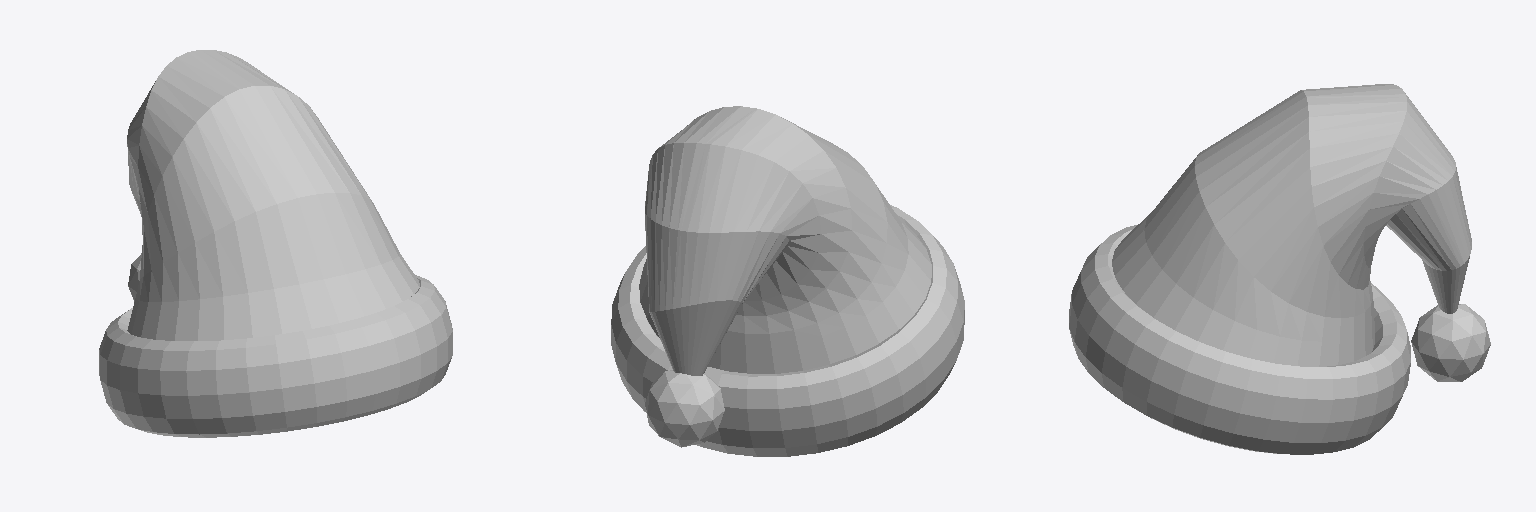
Rendered from hat_pirate.obj.
The picture shows the model from 3 angles: view 1: azimuth 30°, elevation 25°; view 2: azimuth 150°, elevation 25°; view 3: azimuth 270°, elevation 25°; orthographic projection.
Parts seen in each view (by area): view 1: Torus; view 2: Torus; view 3: Torus.
Part boxes in pixels (x1,y1,x2,y2): Torus: (99,50,452,437); Torus: (611,106,964,456); Torus: (1069,84,1490,454).
Bounding box in the file's own units: 72.32 × 70.5 × 84.78.